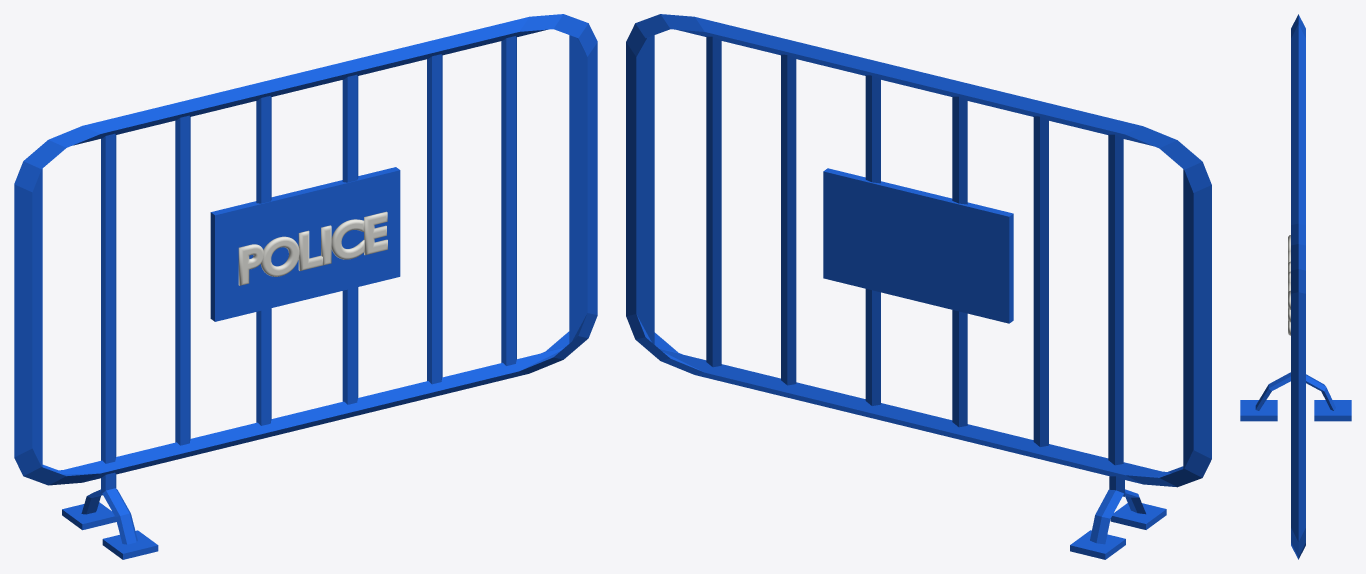
3 views of the same model, side by side, from view 1: azimuth 30°, elevation 25°; view 2: azimuth 150°, elevation 25°; view 3: azimuth 270°, elevation 25° (orthographic). The views are drawn at different scales.
Visible parts, largest first — view 1: Plane, Text; view 2: Plane; view 3: Plane, Text.
Part boxes in pixels (x1,y1,x2,y2): Plane: [14, 14, 597, 559]; Text: [238, 211, 387, 285]; Plane: [626, 14, 1211, 559]; Plane: [1240, 14, 1351, 559]; Text: [1288, 235, 1290, 335].
Bounding box in the file's own units: 432 × 292 × 78.19.
